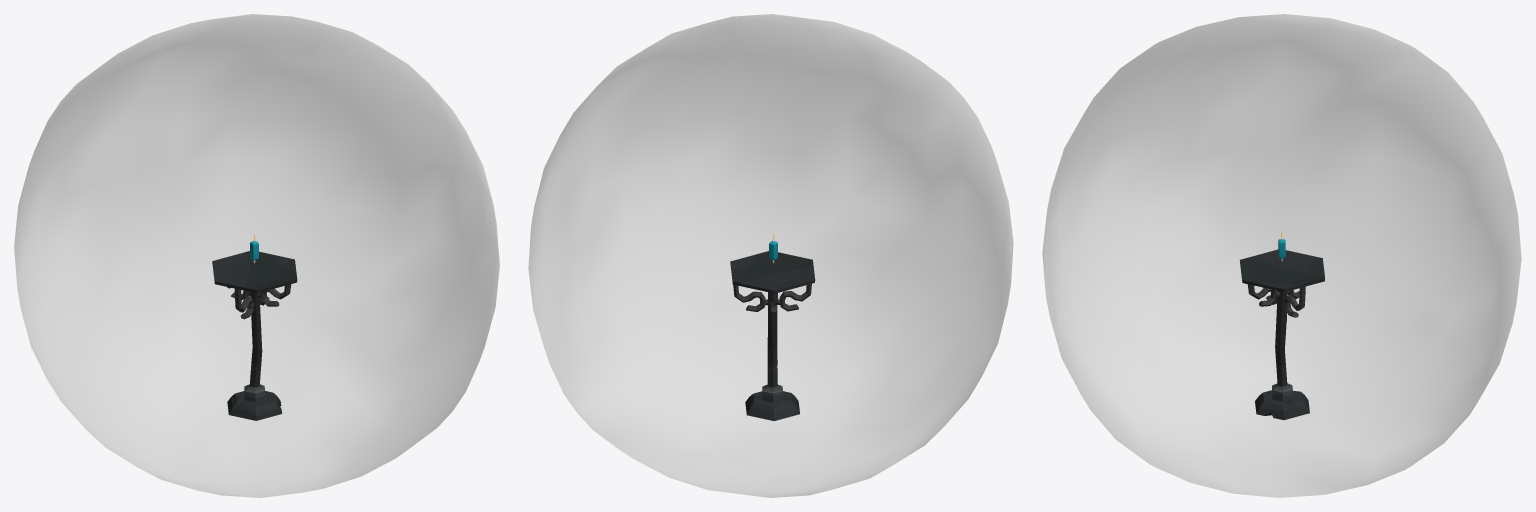
File: japaneseMediumComplete.glb
The picture shows the model from 3 angles, left to right: view 1: azimuth 30°, elevation 25°; view 2: azimuth 150°, elevation 25°; view 3: azimuth 270°, elevation 25°; orthographic projection.
Parts seen in each view (by area): view 1: Room, Candle_Stand; view 2: Room, Candle_Stand; view 3: Room, Candle_Stand.
Boxes of the visible parts, x1,y1,x2,y2 form: Room: [14, 14, 499, 497]; Candle_Stand: [212, 251, 297, 420]; Room: [528, 14, 1013, 497]; Candle_Stand: [730, 251, 815, 421]; Room: [1042, 14, 1521, 497]; Candle_Stand: [1239, 249, 1324, 420].
Bounding box in the file's own units: 24.43 × 24.43 × 24.44.
5 materials, 2 textured.
